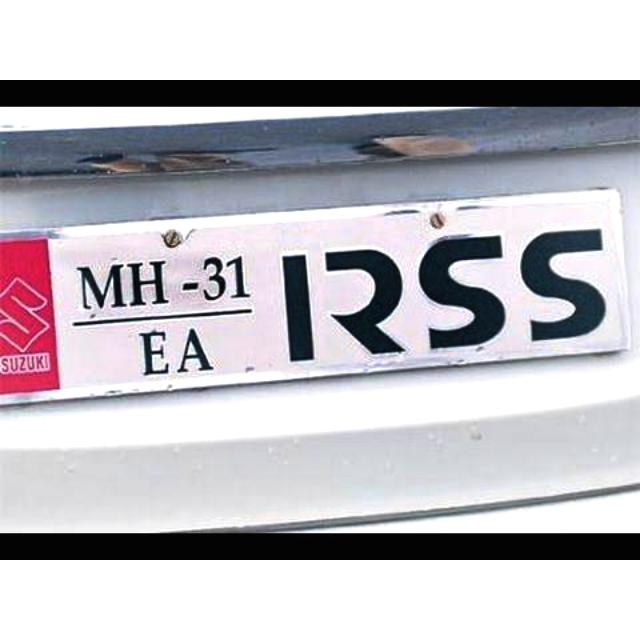plate: (8, 197, 614, 391)
